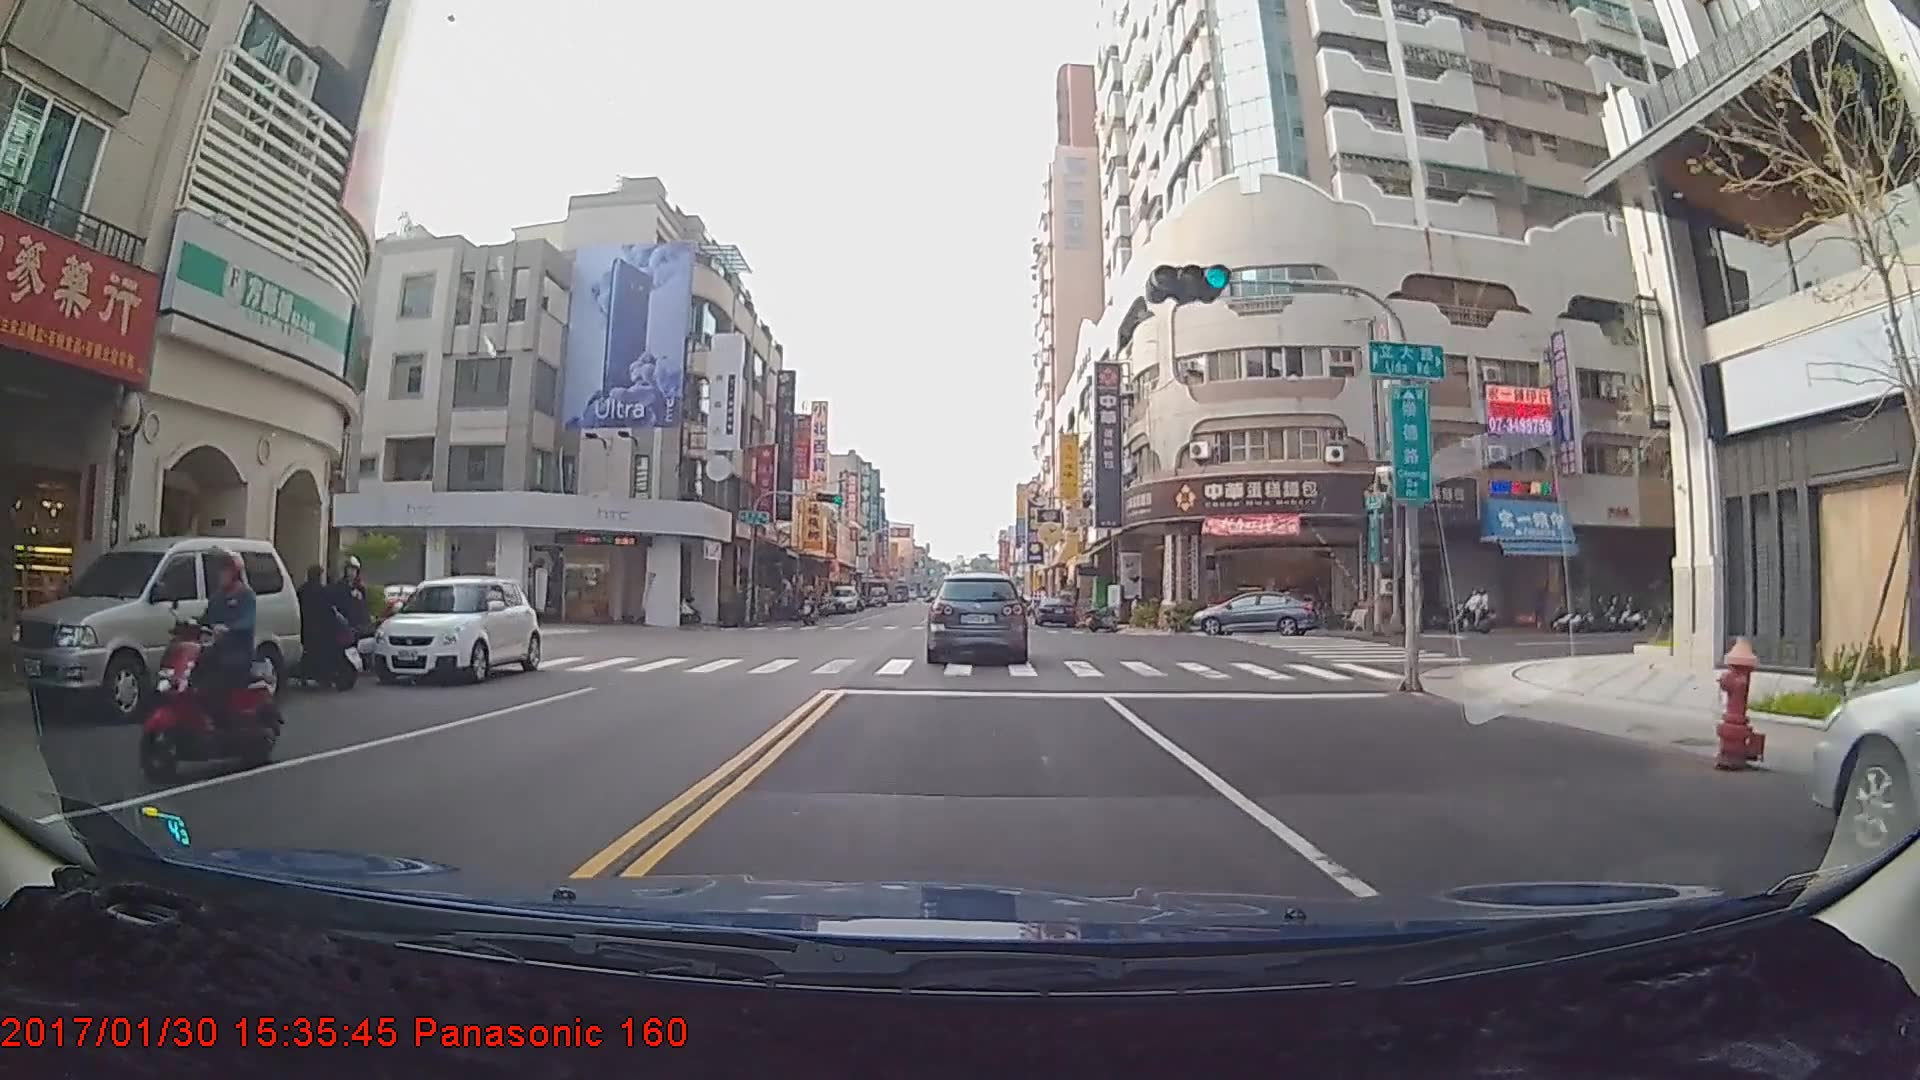pedestrian: (323, 547, 372, 682)
rider: (110, 549, 270, 804), (1438, 583, 1492, 633), (794, 589, 824, 630)
vehicle: (0, 533, 304, 725), (1808, 561, 1919, 935), (369, 572, 540, 683), (926, 572, 1026, 664), (1197, 584, 1321, 639), (1036, 591, 1077, 624), (829, 581, 857, 611)
